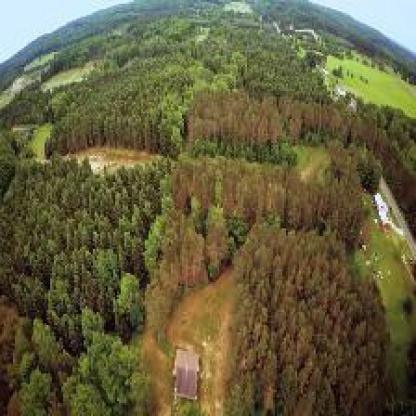other: (356, 168, 411, 278)
